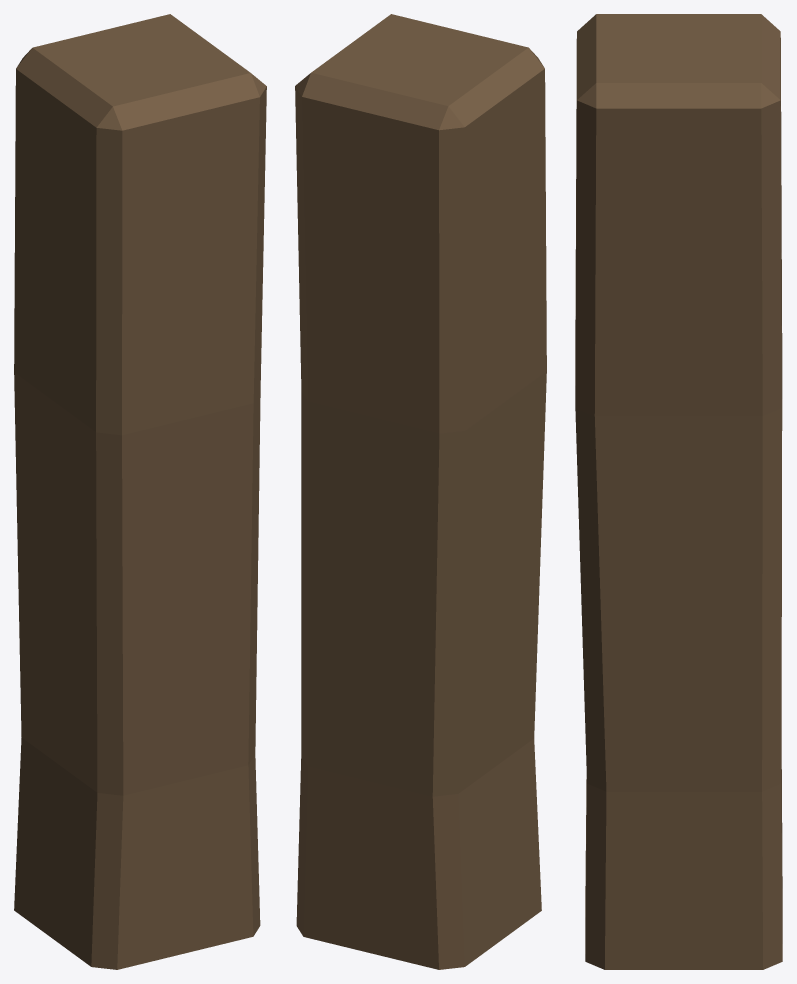
File: rpgpp_ag_wall_connector_corner_01_3m.fbx
The picture shows the model from 3 angles, left to right: view 1: azimuth 30°, elevation 25°; view 2: azimuth 150°, elevation 25°; view 3: azimuth 270°, elevation 25°; orthographic projection. The views are drawn at different scales.
Parts seen in each view (by area): view 1: rpgpp_ag_wall_connector_corner_01_3m; view 2: rpgpp_ag_wall_connector_corner_01_3m; view 3: rpgpp_ag_wall_connector_corner_01_3m.
Boxes of the visible parts, x1,y1,x2,y2 form: rpgpp_ag_wall_connector_corner_01_3m: (14, 14, 266, 969); rpgpp_ag_wall_connector_corner_01_3m: (295, 14, 546, 969); rpgpp_ag_wall_connector_corner_01_3m: (575, 14, 782, 969).
Bounding box in the file's own units: 0.6268 × 3 × 0.64.
